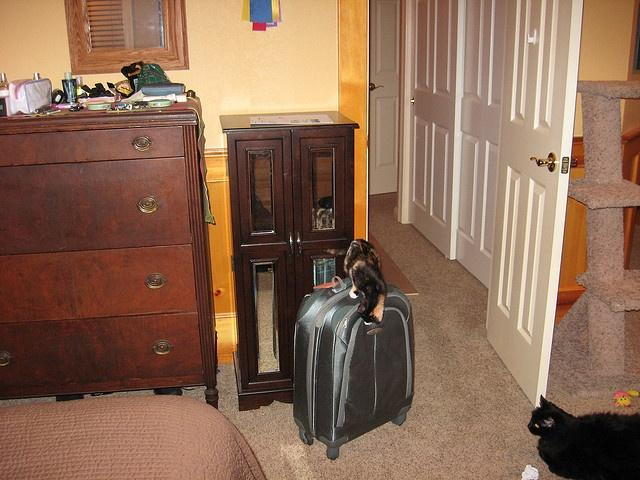Lemari: (224, 123, 357, 392)
